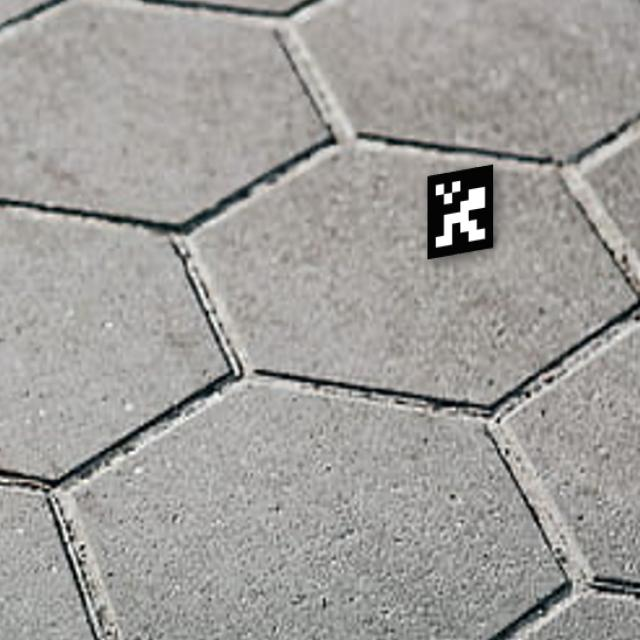marker: (416, 157, 506, 272)
